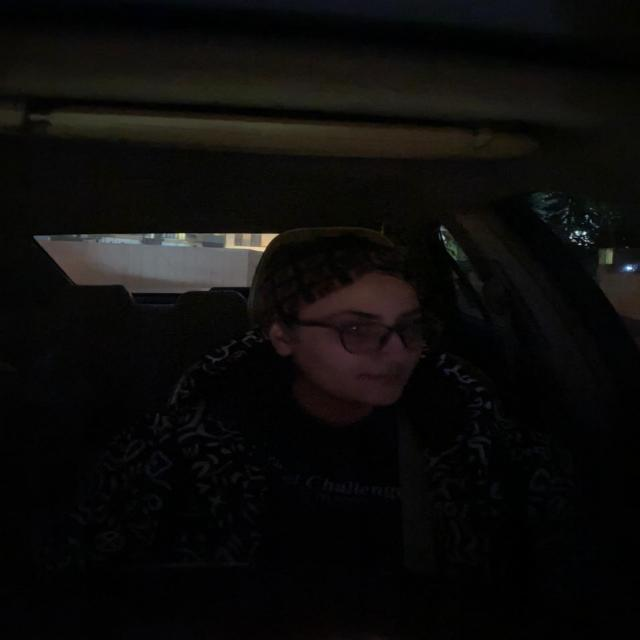person: (246, 228, 454, 421)
